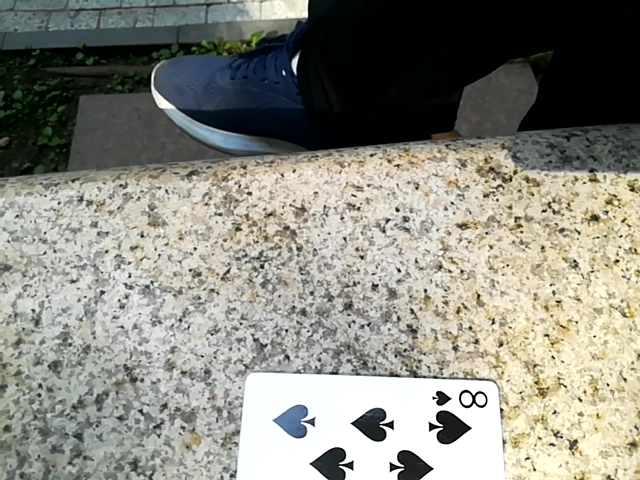ht 8: (226, 374, 518, 479)
